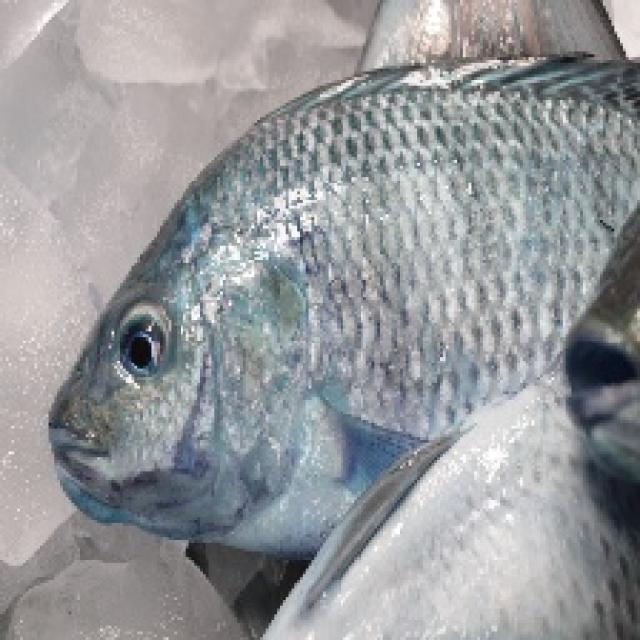Fresh: (49, 70, 613, 593)
